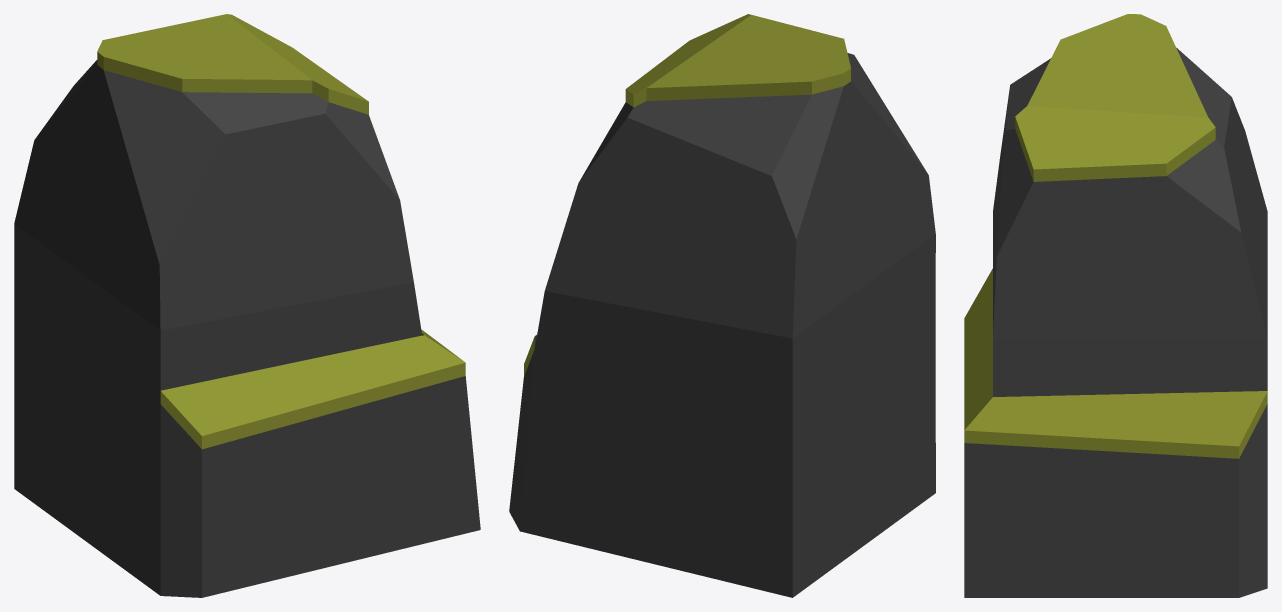
File: rock_rectangular_snow_moss_type_2_LOD0.fbx
3 renders of one model, left to right at view 1: azimuth 30°, elevation 25°; view 2: azimuth 150°, elevation 25°; view 3: azimuth 270°, elevation 25°, orthographic. The views are drawn at different scales.
Parts seen in each view (by area): view 1: Cube.039; view 2: Cube.039; view 3: Cube.039.
Part boxes in pixels (box(x1,y1,x2,y2)): Cube.039: box(14, 14, 480, 597); Cube.039: box(509, 14, 935, 597); Cube.039: box(964, 14, 1267, 597).
Size of the model in its own units: 241 by 364 by 221.
